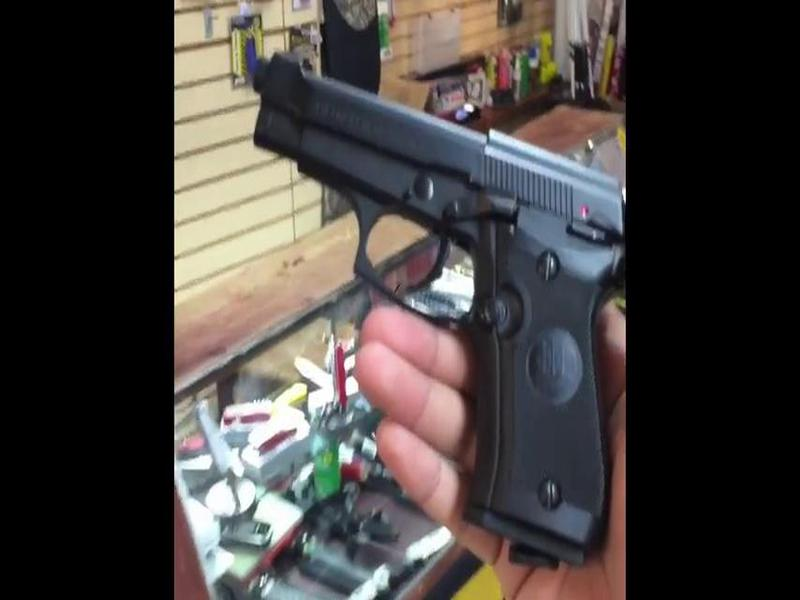Pistola: (238, 33, 626, 562)
